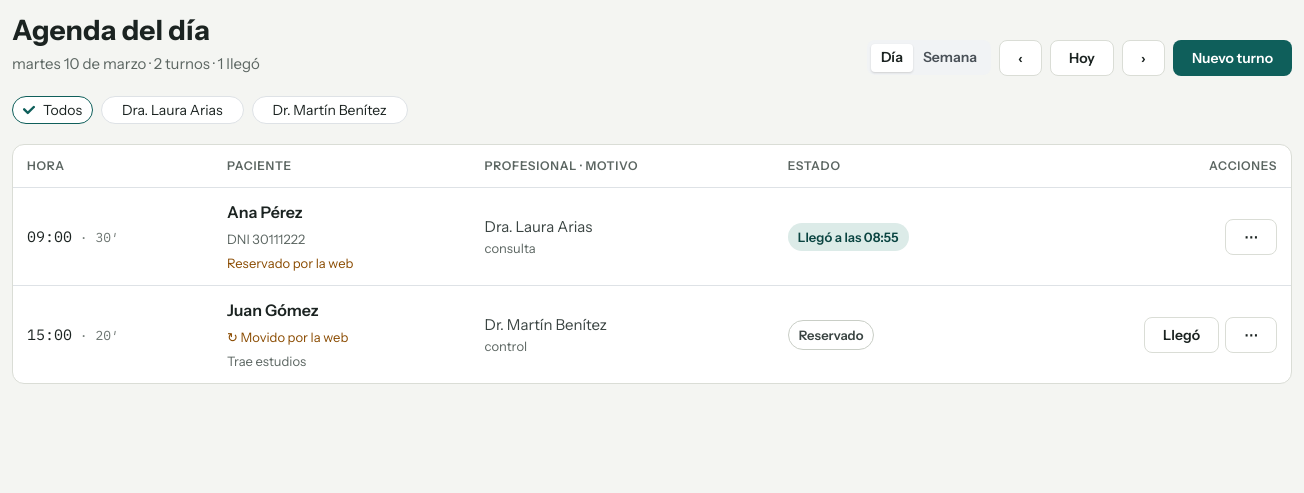
it: reception's agenda › records that the patient warned they will be late, and says so
The width and height of the screenshot is (1304, 493).
Expected: the link "Juan Gómez" is shown, [227,300,319,320]
Click the button named "Más acciones de Juan Gómez": (1251, 335) [1225,317,1277,353]
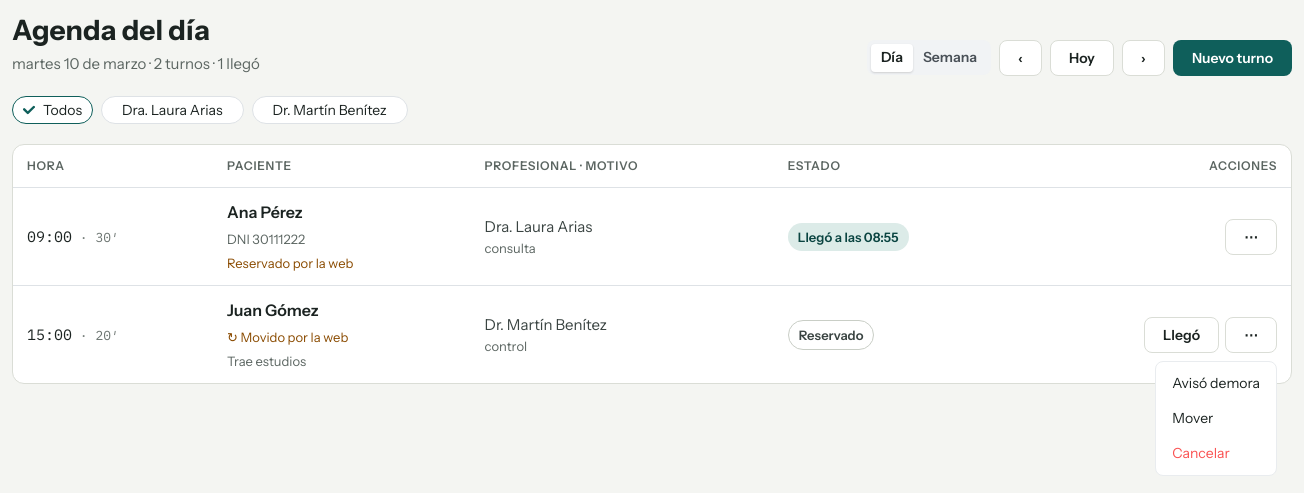
Click the menu item "Avisó demora": (1216, 383) [1160,366,1272,401]
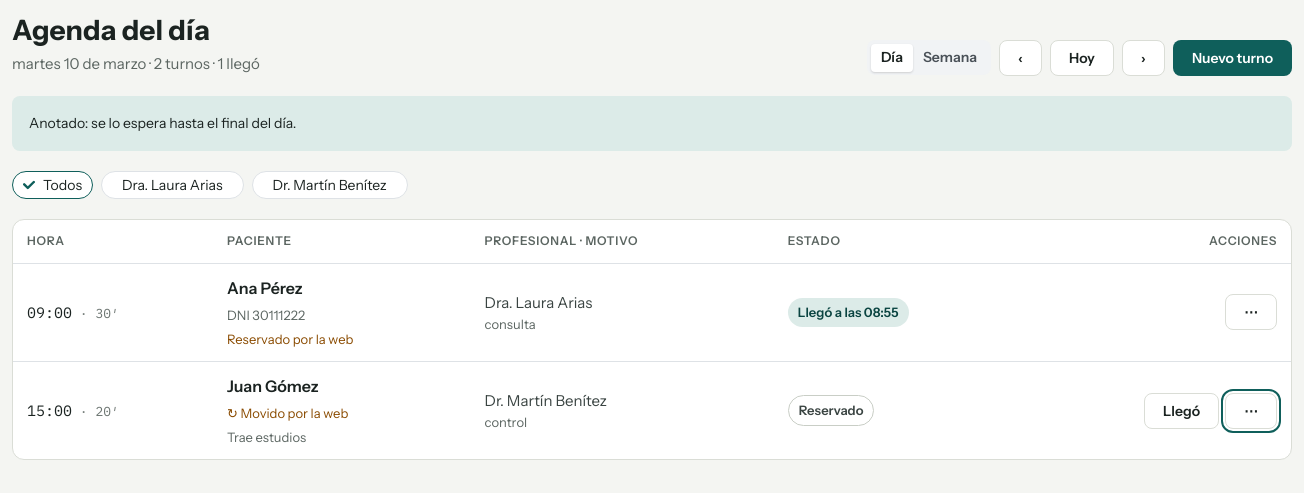
Now the message reads "Anotado: se lo espera hasta el final del día.", box [29,114,296,132]
